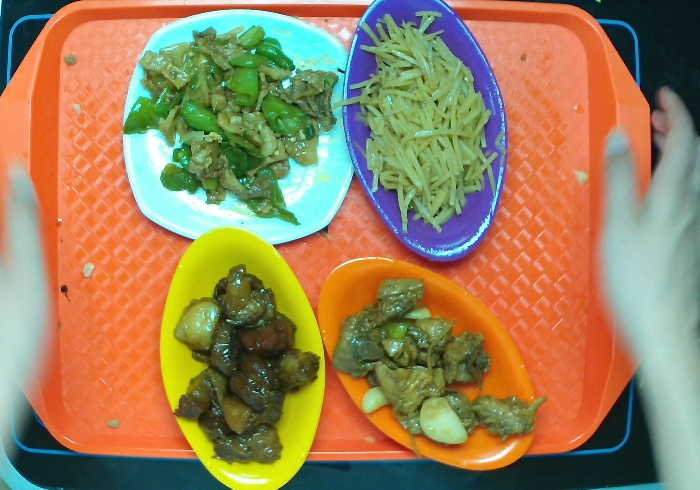RJxy-Fen_Hong_Tuo_Yuan: (338, 1, 511, 273)
RJxy-Huang_Se_Tuo_Yuan: (152, 217, 331, 487)
RJxy-Ju_Huang_Tuo_Yuan: (311, 251, 541, 479)
RJxy-Si_Fang_Die: (122, 6, 360, 252)
